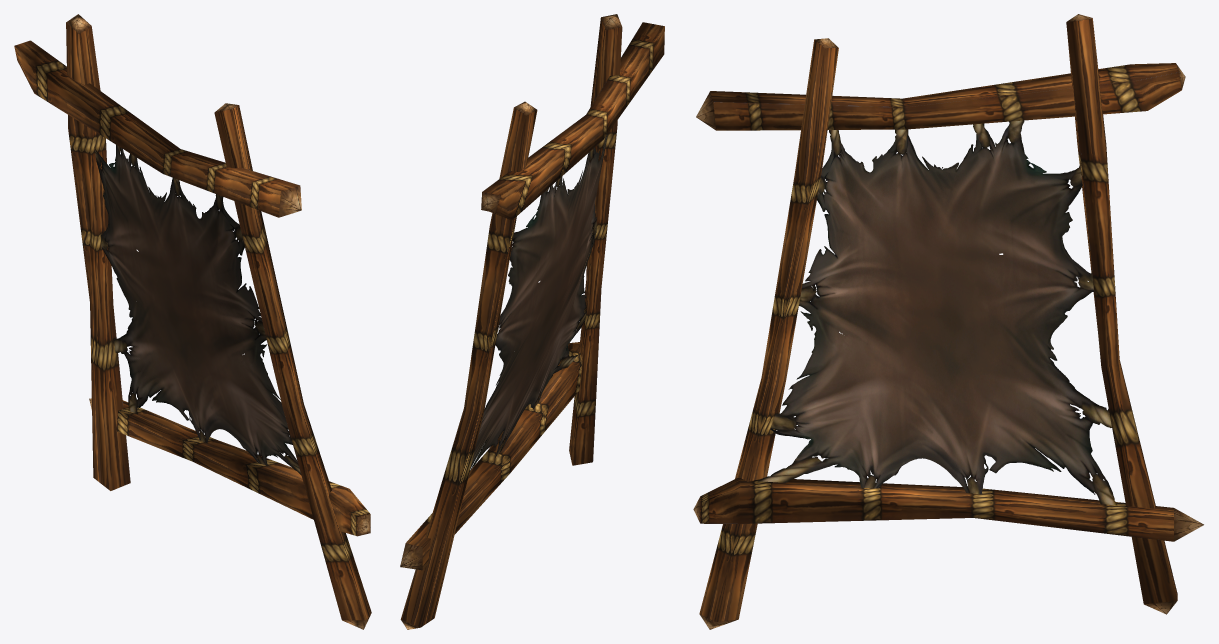
File: blackrockstretchedskin02.obj
3 renders of one model, left to right at view 1: azimuth 30°, elevation 25°; view 2: azimuth 150°, elevation 25°; view 3: azimuth 270°, elevation 25°, orthographic. The views are drawn at different scales.
Visible parts, largest first — view 1: Geoset1, Geoset0; view 2: Geoset1, Geoset0; view 3: Geoset0, Geoset1.
Part boxes in pixels (left/top/right/bottom): Geoset1: left=14, top=14, right=371, bottom=629; Geoset0: left=94, top=145, right=301, bottom=475; Geoset1: left=400, top=14, right=664, bottom=629; Geoset0: left=469, top=134, right=607, bottom=471; Geoset0: left=758, top=120, right=1116, bottom=505; Geoset1: left=693, top=14, right=1203, bottom=629.
Bounding box in the file's own units: 1.47 × 4.95 × 4.1.
Materials: 2 (2 with a texture image).
